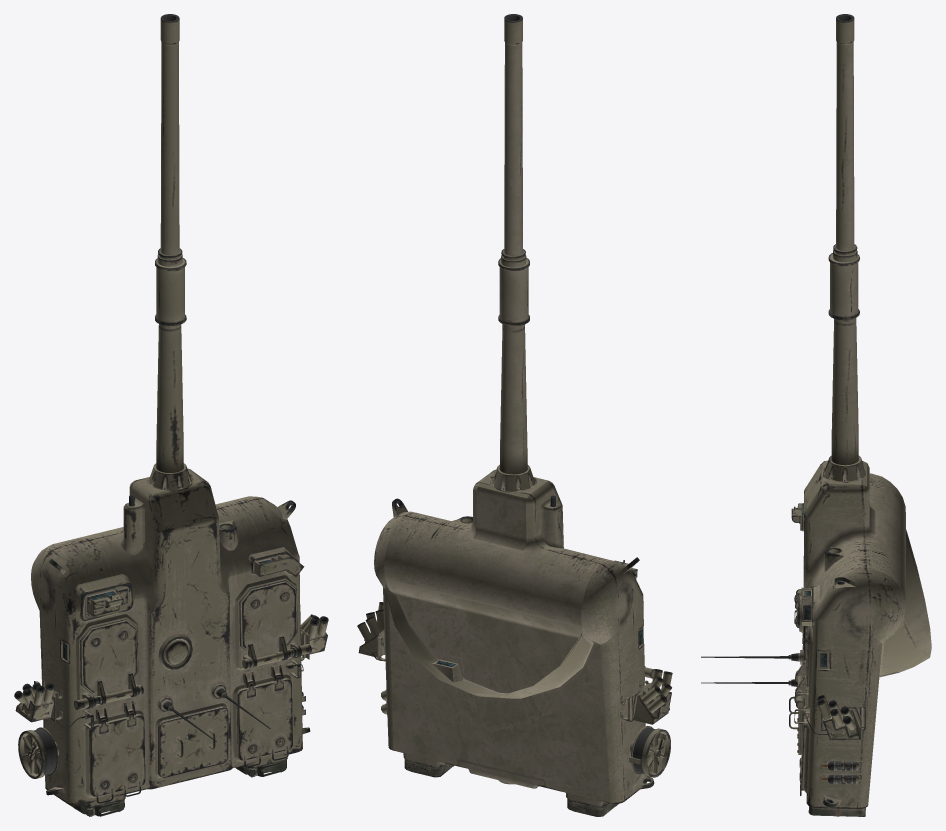
The model's file is Gun_01.glb.
3 views of the same model, side by side, from view 1: azimuth 30°, elevation 25°; view 2: azimuth 150°, elevation 25°; view 3: azimuth 270°, elevation 25° (orthographic). The views are drawn at different scales.
Parts seen in each view (by area): view 1: set_0_group_0; view 2: set_0_group_0; view 3: set_0_group_0.
Part boxes in pixels (x1=…): set_0_group_0: x1=14, y1=14, x2=328, y2=816; set_0_group_0: x1=357, y1=14, x2=672, y2=816; set_0_group_0: x1=701, y1=14, x2=931, y2=816.
Size of the model in its own units: 2.88 by 6.85 by 1.9.
1 material, 1 textured.
